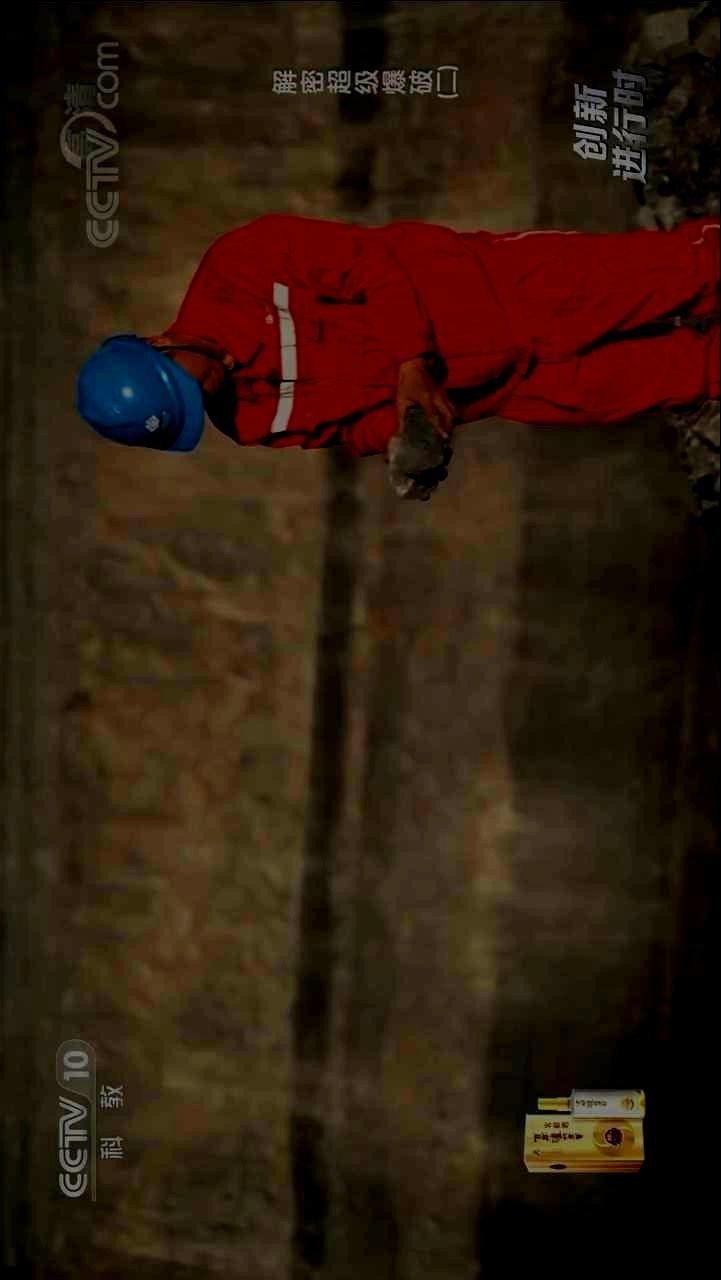helmet: (72, 332, 234, 453)
